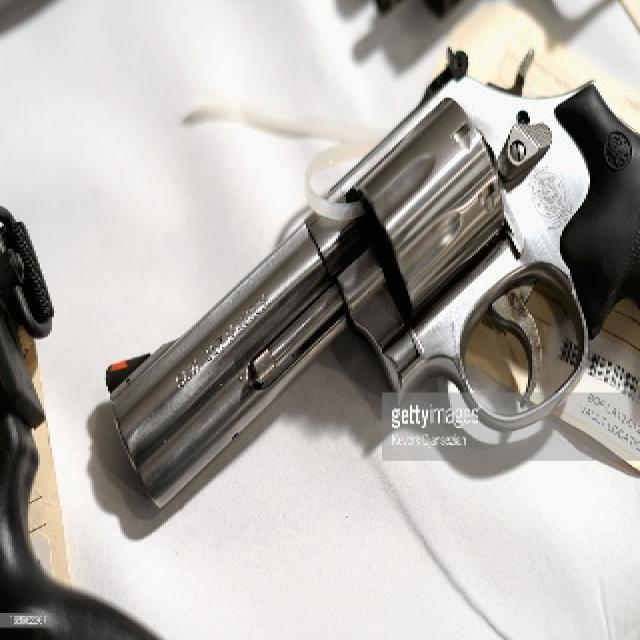handgun: (89, 40, 639, 512)
